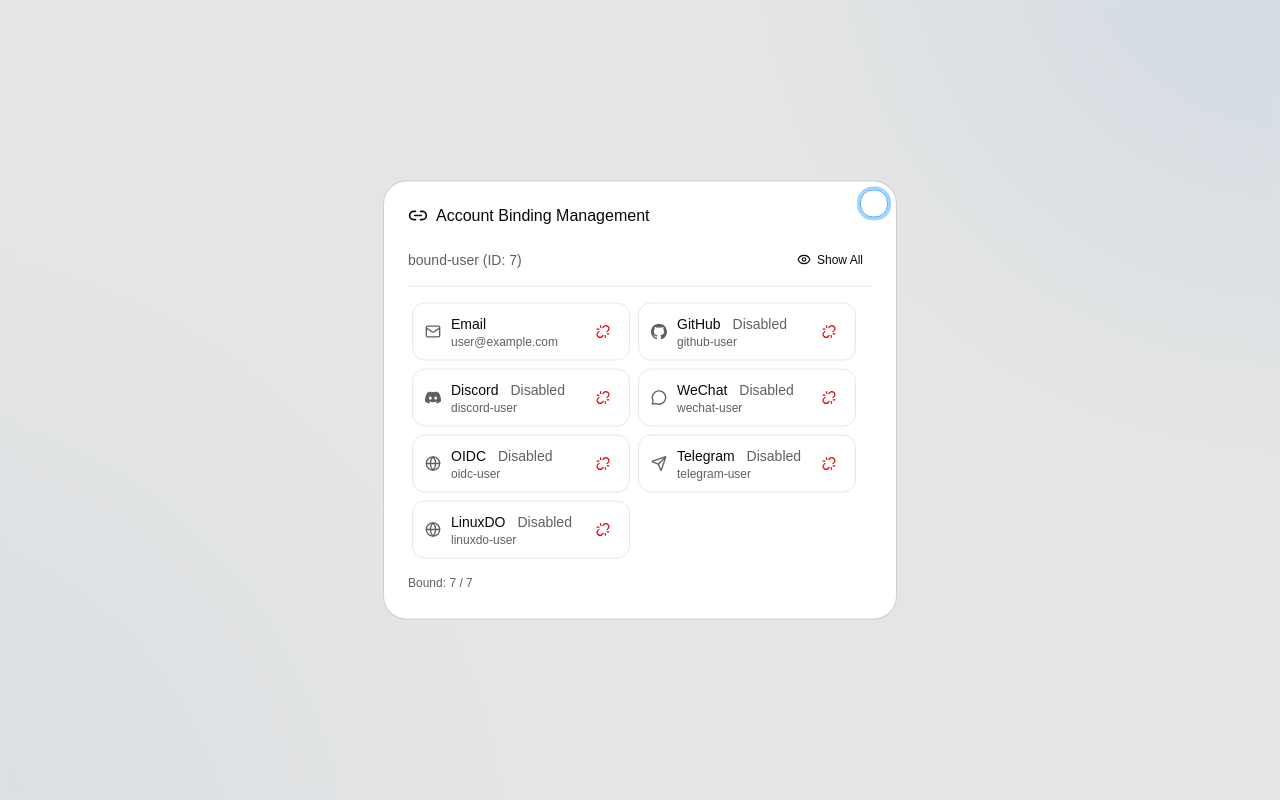
Test: UserBindingDialog shared status updates › updates provider availability and the provider list after a background refresh
Expected: the text "bound-user (ID: 7)" is shown, top-left (408, 250), bottom-right (522, 270)
Click the button "Show All" at [830, 260], box top-left (788, 246), bottom-right (872, 274)
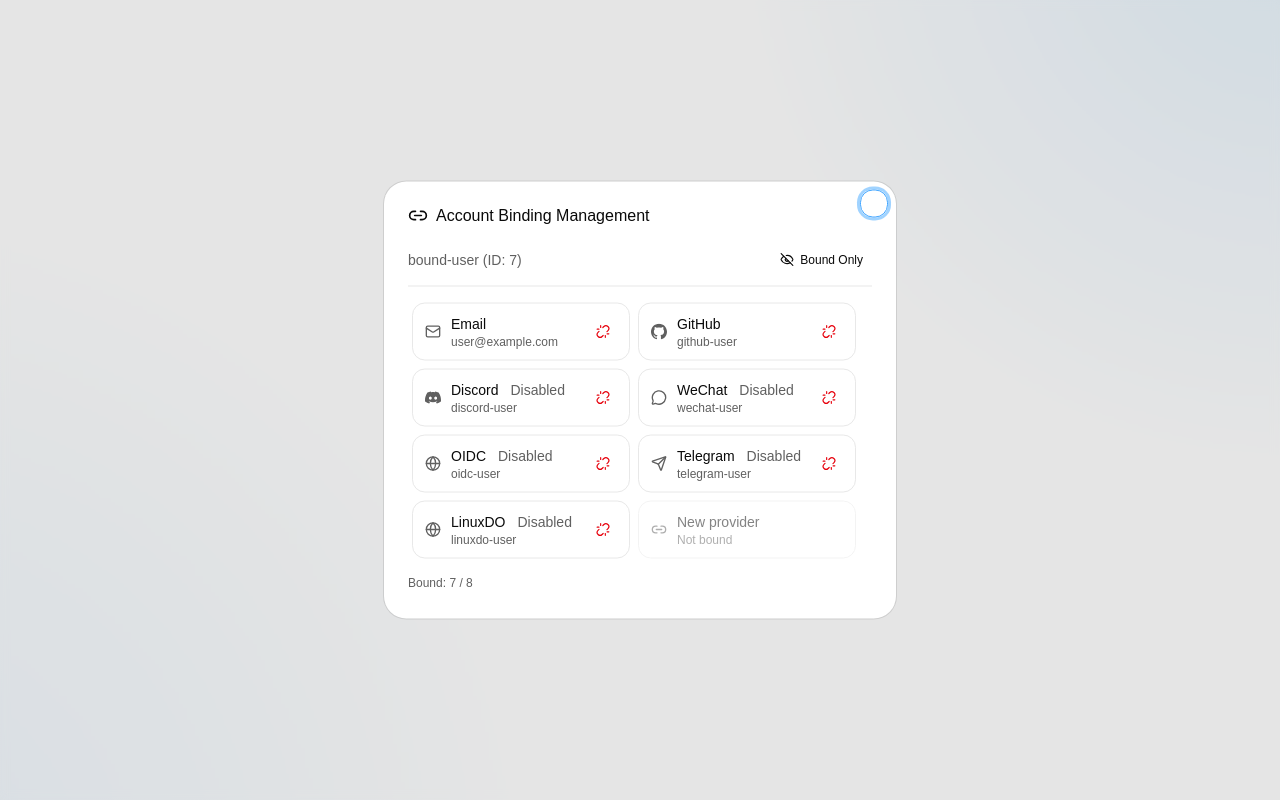
Now the text "New provider" is shown, box top-left (677, 512), bottom-right (760, 532)
